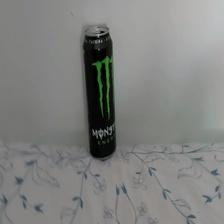Metal: (81, 25, 122, 161)
